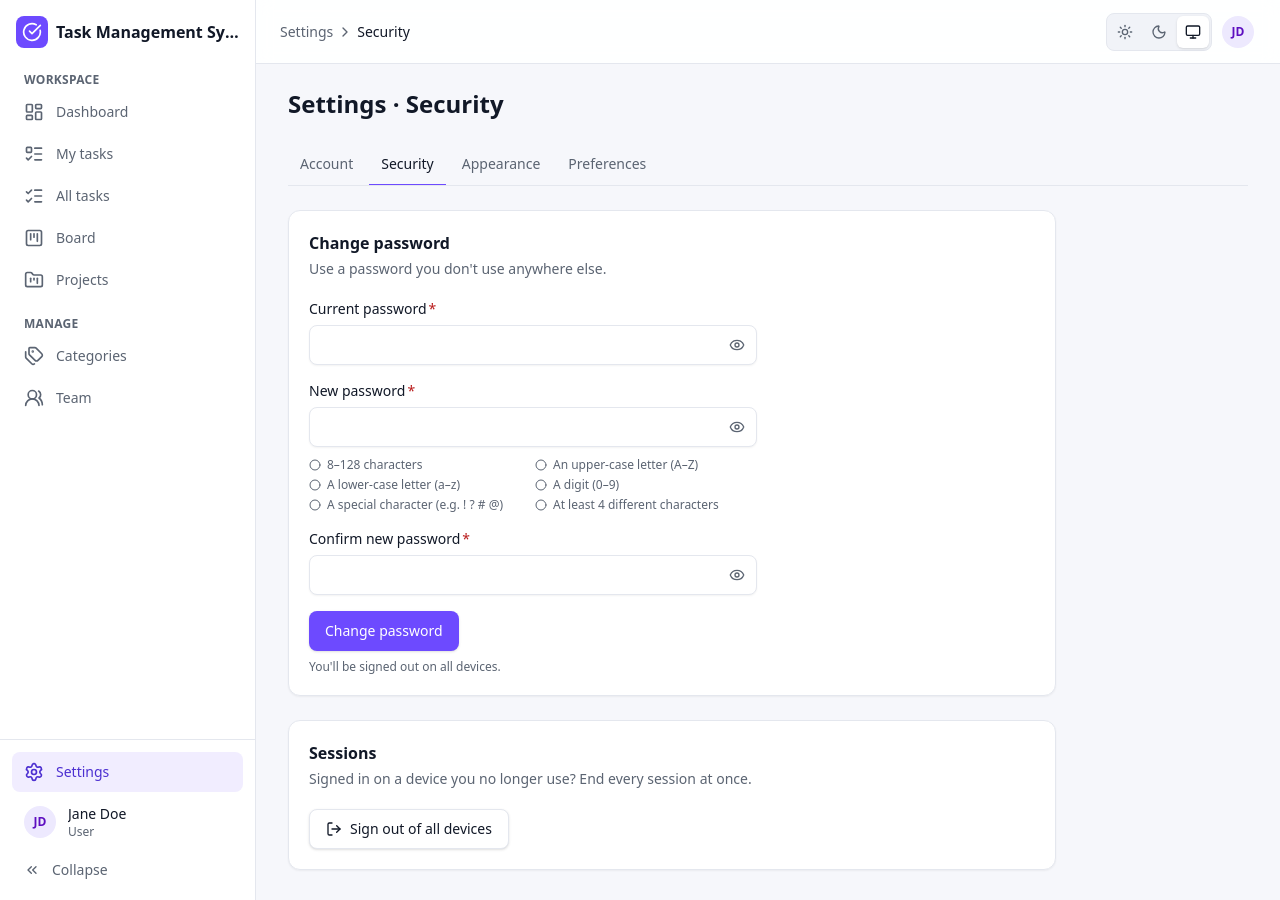
While signed in › refreshes an expired access token transparently and completes the action
Type "Old!Pass1" into the password field labelled "Current password" at (533, 345), box [309,325,757,365]
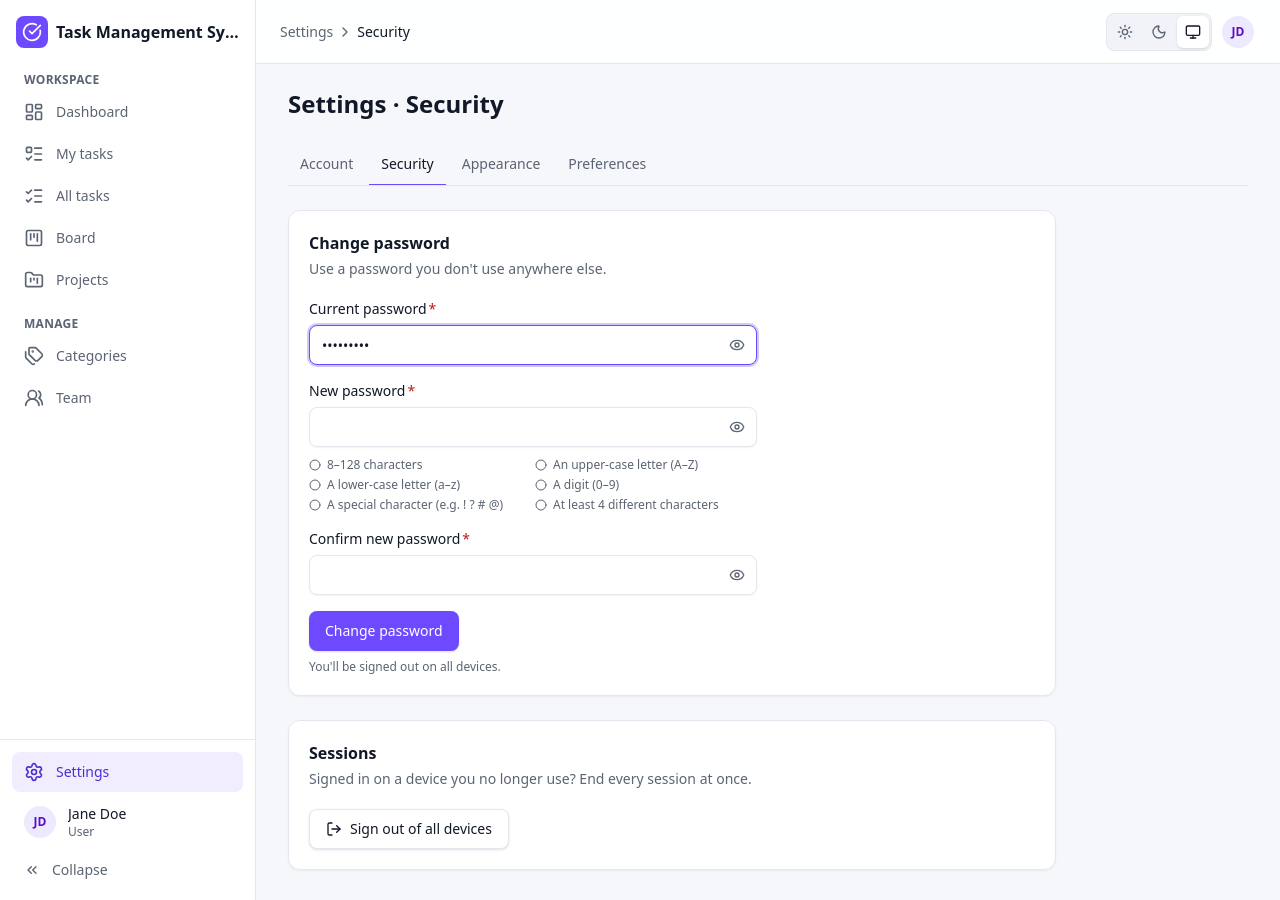
Type "N3w!Password" into the password field labelled "New password" at (533, 427), box [309,407,757,447]
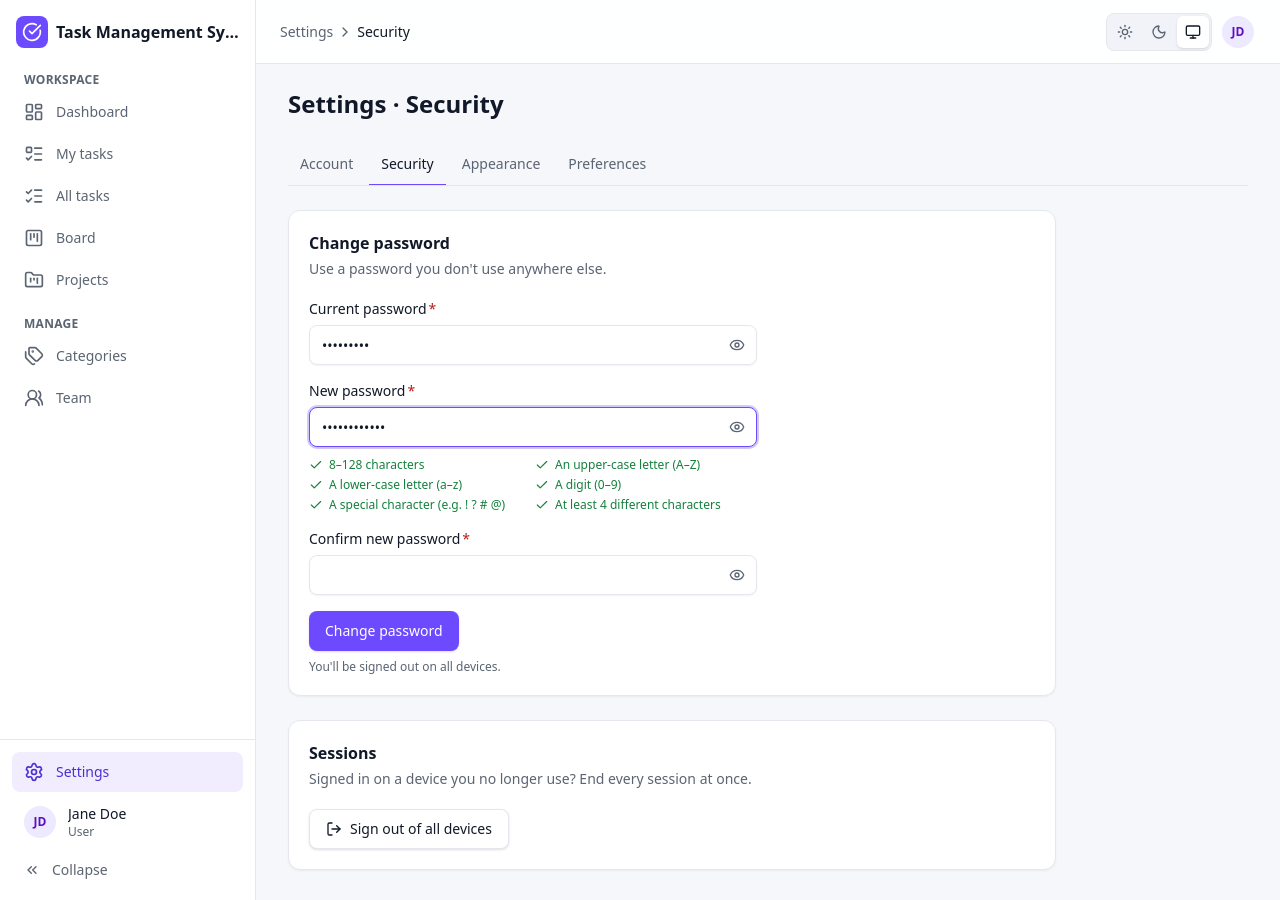
Type "N3w!Password" into the password field labelled "Confirm new password" at (533, 575), box [309,555,757,595]
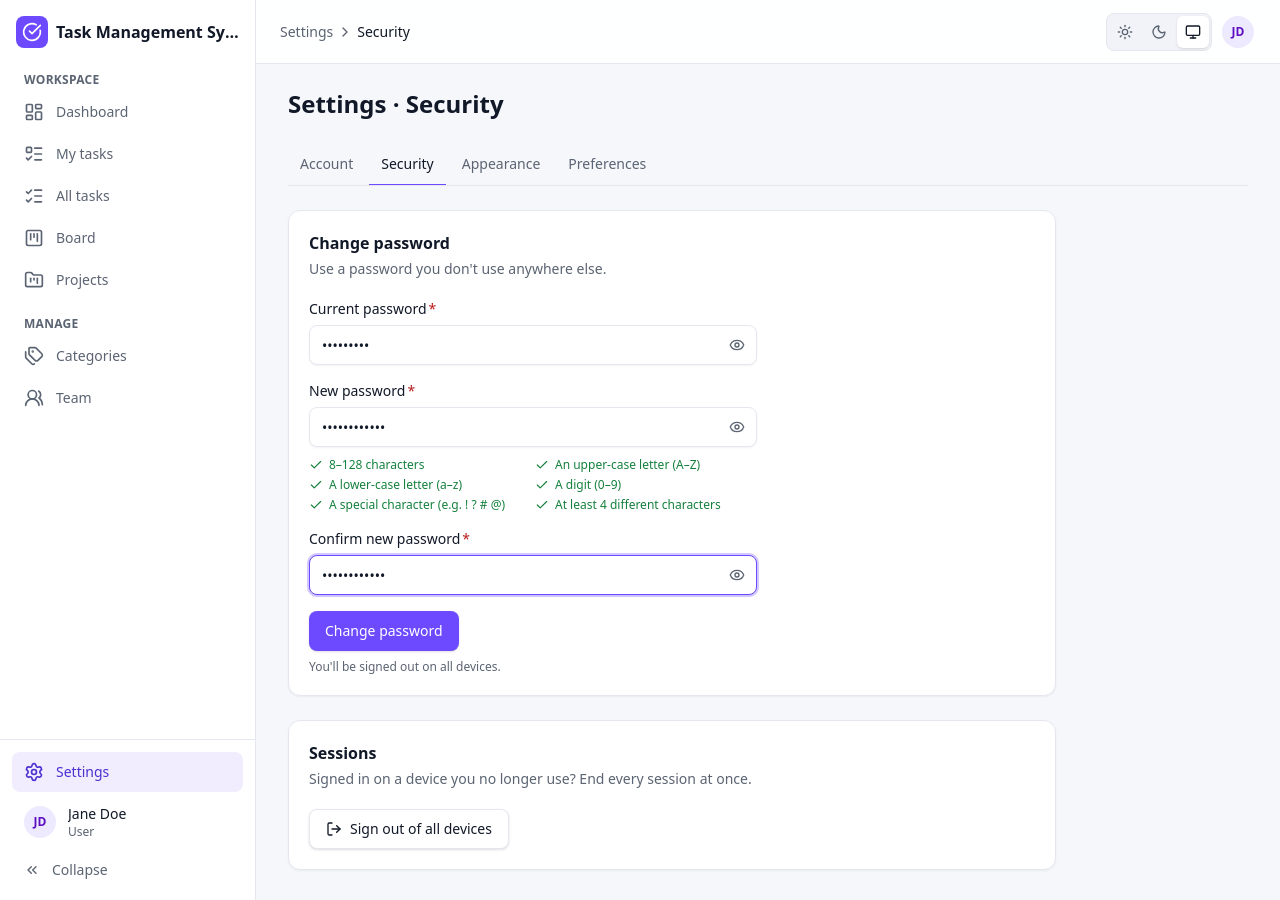
Click the button "Change password" at (384, 631), box [309,611,459,651]
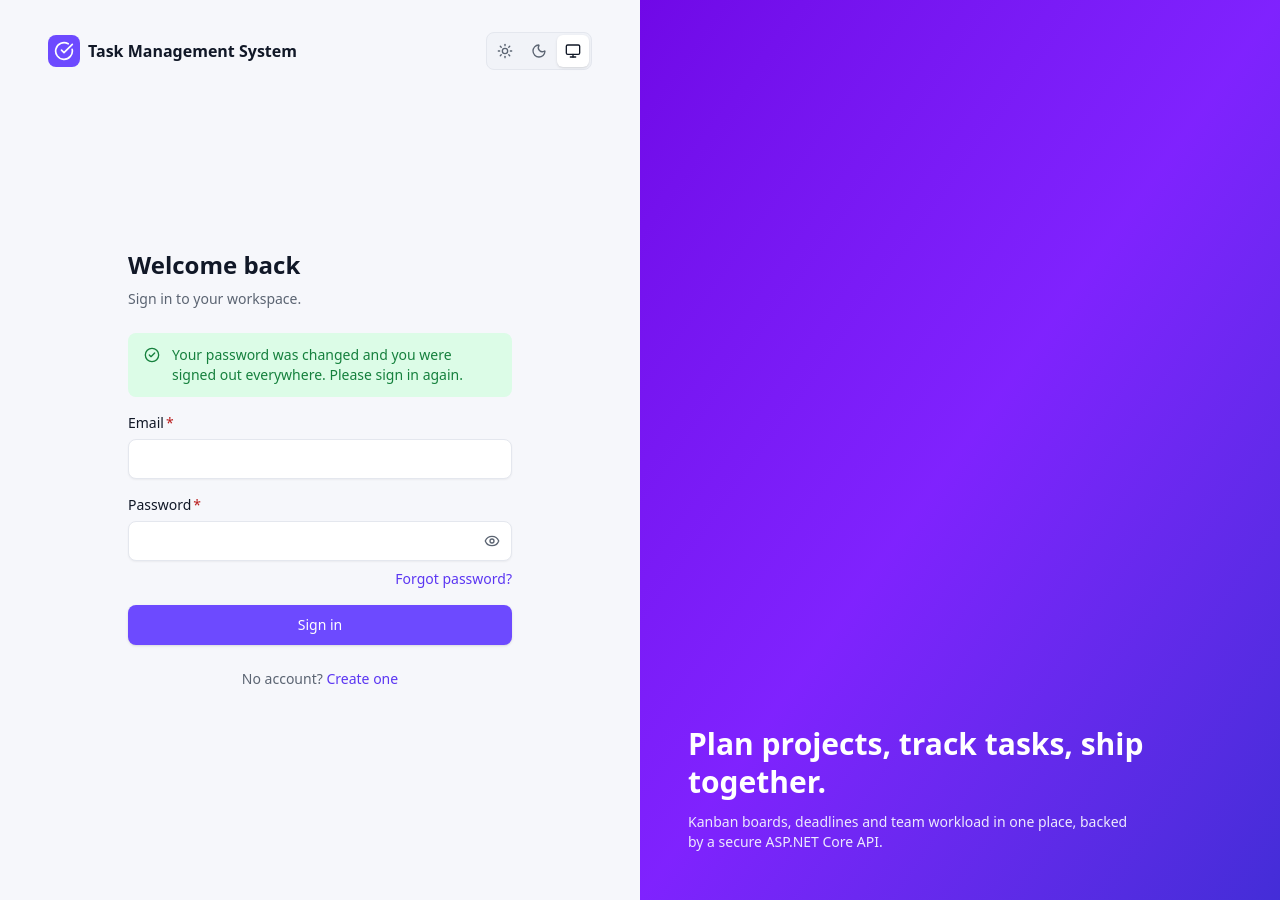
Now the text "Your password was changed" is shown, box [172,345,463,384]
